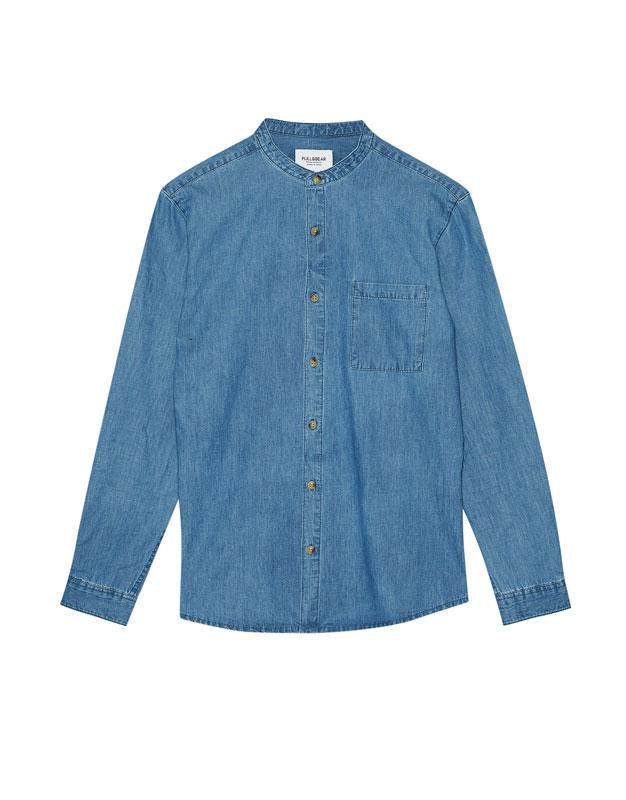teeshirt: (57, 111, 579, 664)
